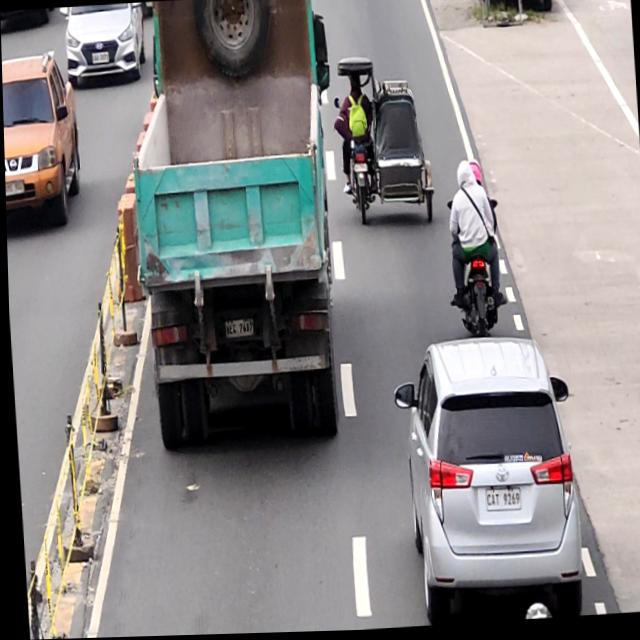Car: (387, 331, 584, 625)
License-Plate: (483, 488, 518, 515), (221, 319, 253, 340), (351, 164, 366, 174)
Motorcycle: (446, 196, 503, 339)
Tricycle: (333, 52, 435, 232)
Truck: (119, 0, 351, 451)
